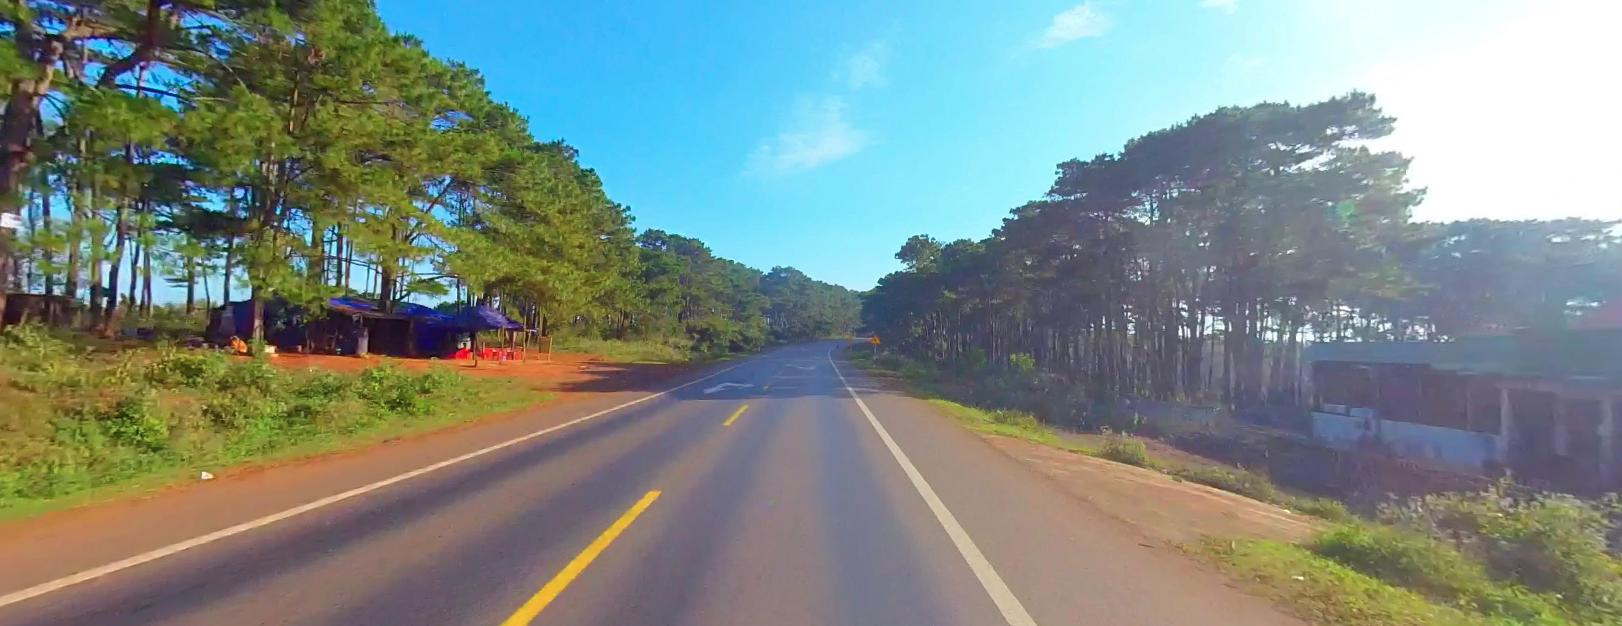Nguy hiem: (870, 332, 881, 342), (870, 333, 879, 342)
